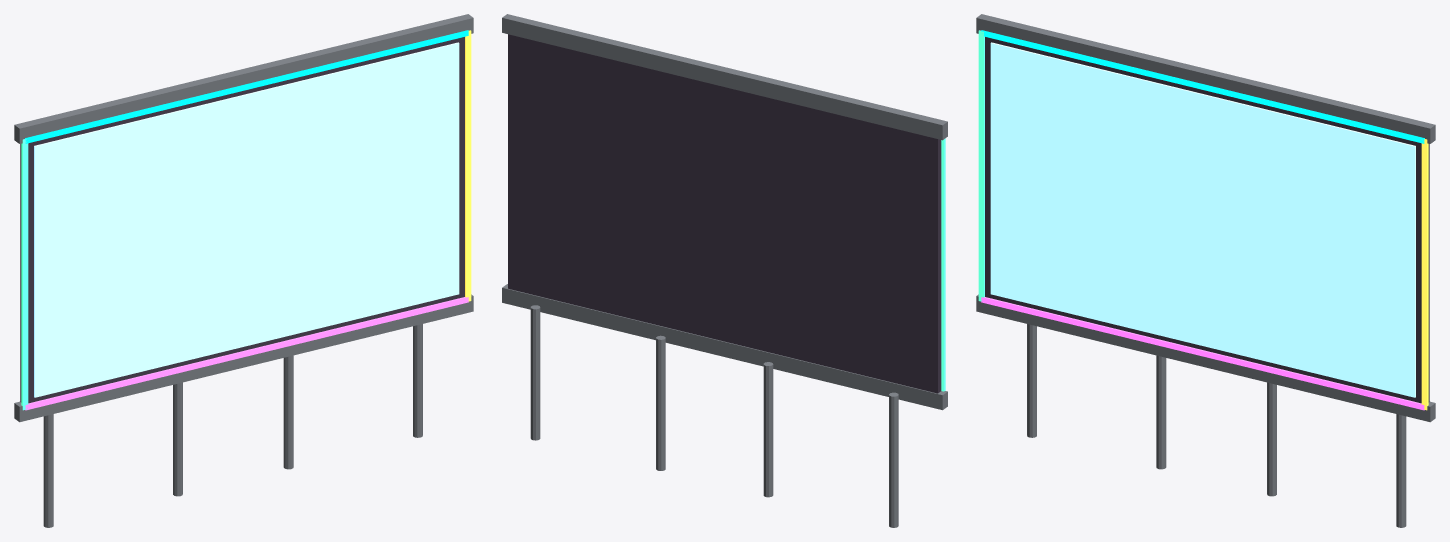
The model's file is SIGN_Billboard_Mega.glb.
3 renders of one model, left to right at view 1: azimuth 30°, elevation 25°; view 2: azimuth 150°, elevation 25°; view 3: azimuth 330°, elevation 25°, orthographic. The views are drawn at different scales.
Parts seen in each view (by area): view 1: SIGN_Billboard_Mega; view 2: SIGN_Billboard_Mega; view 3: SIGN_Billboard_Mega.
Boxes of the visible parts, x1,y1,x2,y2 form: SIGN_Billboard_Mega: [14, 14, 473, 527]; SIGN_Billboard_Mega: [502, 14, 947, 527]; SIGN_Billboard_Mega: [976, 14, 1435, 527].
Size of the model in its own units: 12.3 by 10.8 by 0.77.
